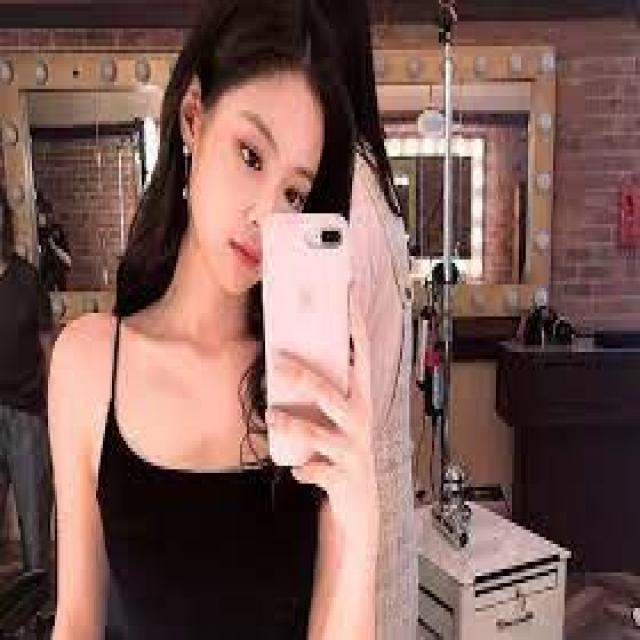Phone: (260, 209, 354, 474)
